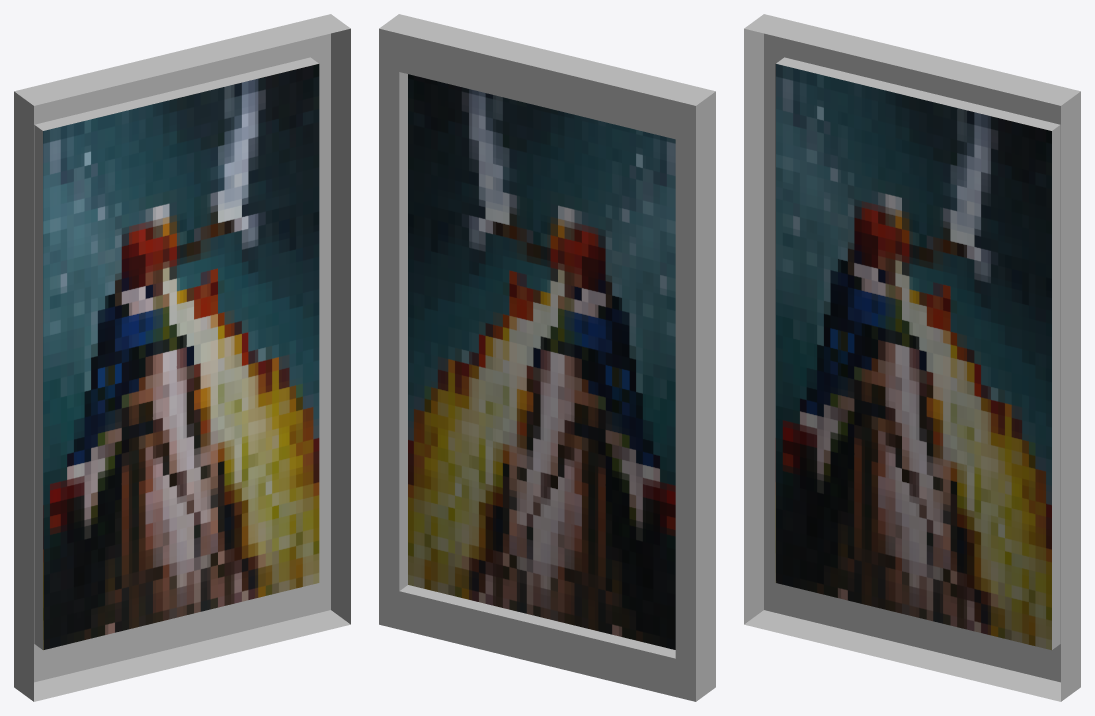
Rendered from paint.fbx.
The picture shows the model from 3 angles, left to right: view 1: azimuth 30°, elevation 25°; view 2: azimuth 150°, elevation 25°; view 3: azimuth 330°, elevation 25°; orthographic projection.
Parts seen in each view (by area): view 1: Plane.006; view 2: Plane.006; view 3: Plane.006.
Boxes of the visible parts, x1,y1,x2,y2 form: Plane.006: (14, 14, 350, 701); Plane.006: (379, 14, 715, 701); Plane.006: (744, 14, 1080, 701).
Bounding box in the file's own units: 82.8 × 149 × 9.05.
